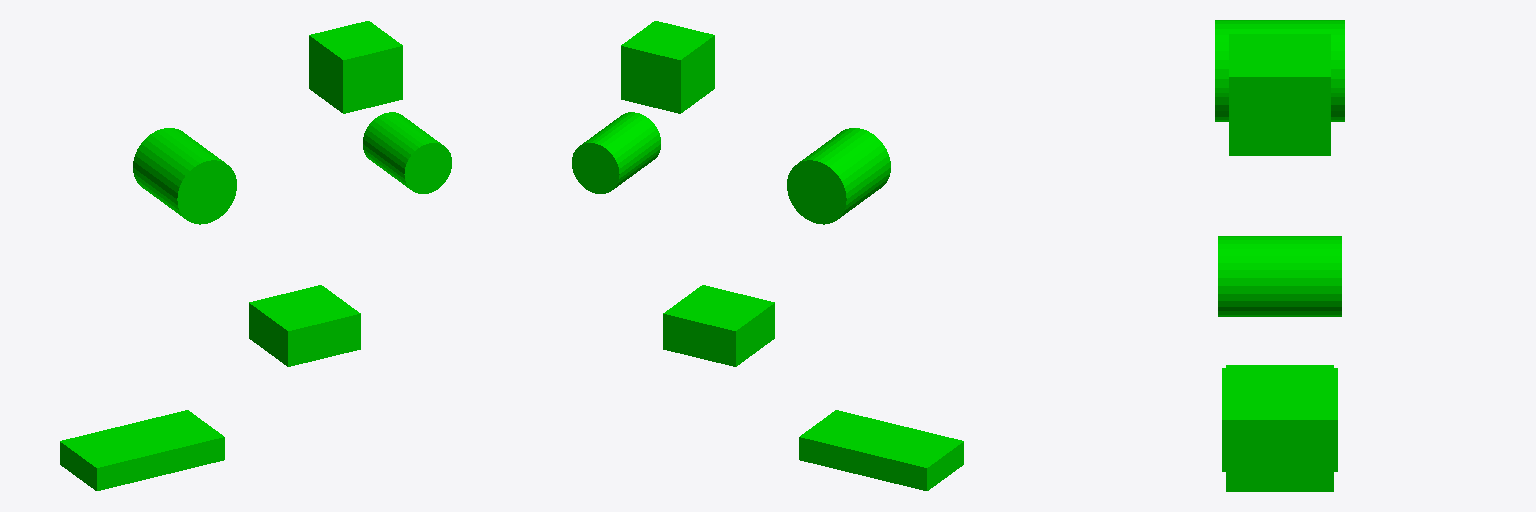
URDF robot description (ThreeDOF_Robot_ObstacleScene.SLDASM):
<?xml version="1.0" encoding="utf-8"?>
<!-- This URDF was automatically created by SolidWorks to URDF Exporter! Originally created by Stephen Brawner (brawner@gmail.com) 
     Commit Version: 1.6.0-4-g7f85cfe  Build Version: 1.6.7995.38578
     For more information, please see http://wiki.ros.org/sw_urdf_exporter -->
<robot
  name="ThreeDOF_Robot_ObstacleScene.SLDASM">
  <link
    name="base_link">
    <inertial>
      <origin
        xyz="0.316652462983068 0.0209295031293411 2.99470785545367E-18"
        rpy="0 0 0" />
      <mass
        value="1.4142163244935" />
      <inertia
        ixx="0.00105011985971853"
        ixy="-4.2351647362715E-21"
        ixz="-5.30807313612695E-20"
        iyy="0.00174142985971853"
        iyz="9.03501810404587E-21"
        izz="0.00126741164264263" />
    </inertial>
    <visual>
      <origin
        xyz="0 0 0"
        rpy="0 0 0" />
      <geometry>
        <mesh
          filename="package://ThreeDOF_Robot_ObstacleScene.SLDASM/meshes/base_link.STL" />
      </geometry>
      <material
        name="">
        <color
          rgba="0 0.898039215686275 0 0.82" />
      </material>
    </visual>
    <collision>
      <origin
        xyz="0 0 0"
        rpy="0 0 0" />
      <geometry>
        <mesh
          filename="package://ThreeDOF_Robot_ObstacleScene.SLDASM/meshes/base_link.STL" />
      </geometry>
    </collision>
  </link>
</robot>

--- Render facts (derived) ---
3 views of the same robot in one strip: view 1: azimuth 30°, elevation 25°; view 2: azimuth 150°, elevation 25°; view 3: azimuth 270°, elevation 25° (orthographic).
Robot: ThreeDOF_Robot_ObstacleScene.SLDASM — 1 links, 0 joints (none); root link base_link; default pose: all joints at 0.
Links seen in each view (by area): view 1: base_link; view 2: base_link; view 3: base_link.
Link boxes in pixels (x1,y1,x2,y2): base_link: (60, 21, 451, 490); base_link: (572, 21, 963, 490); base_link: (1215, 20, 1344, 491).
Bounding box of the posed robot: 0.413 × 0.09 × 0.413 m (x, y, z).
1 mesh visuals loaded from 1 distinct referenced files (1 binary STL).
